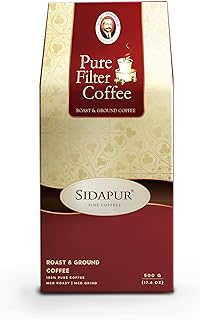Coffee: (40, 3, 175, 294)
